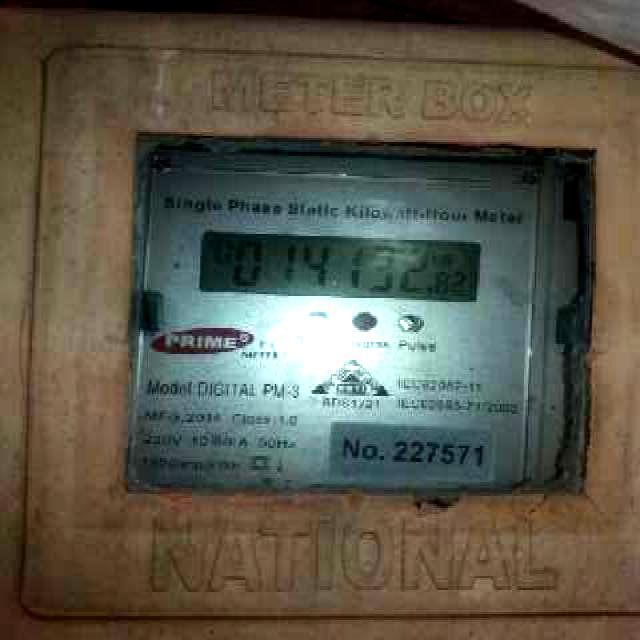LCD: (188, 215, 496, 318)
